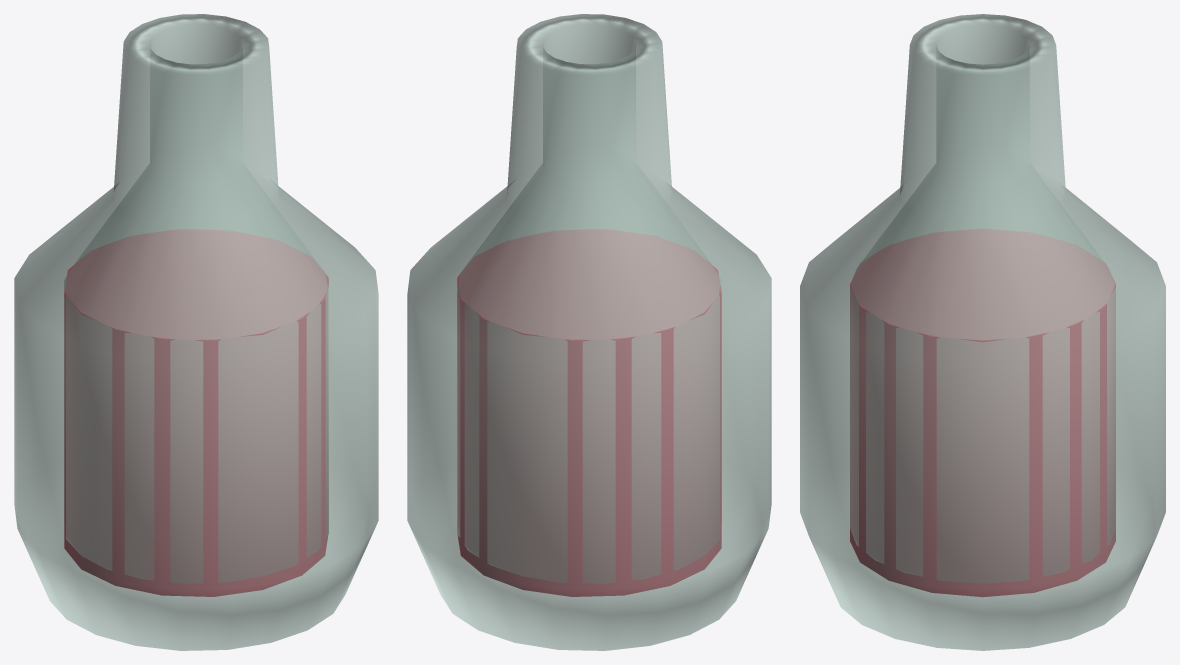
File: healing-potion.glb
The picture shows the model from 3 angles, left to right: view 1: azimuth 30°, elevation 25°; view 2: azimuth 150°, elevation 25°; view 3: azimuth 270°, elevation 25°; orthographic projection.
Visible parts, largest first — view 1: HealingPotion; view 2: HealingPotion; view 3: HealingPotion.
Part boxes in pixels (left/top/right/bottom): HealingPotion: left=14, top=14, right=378, bottom=650; HealingPotion: left=407, top=14, right=771, bottom=650; HealingPotion: left=800, top=14, right=1165, bottom=650.
Size of the model in its own units: 0.11 by 0.18 by 0.11.
